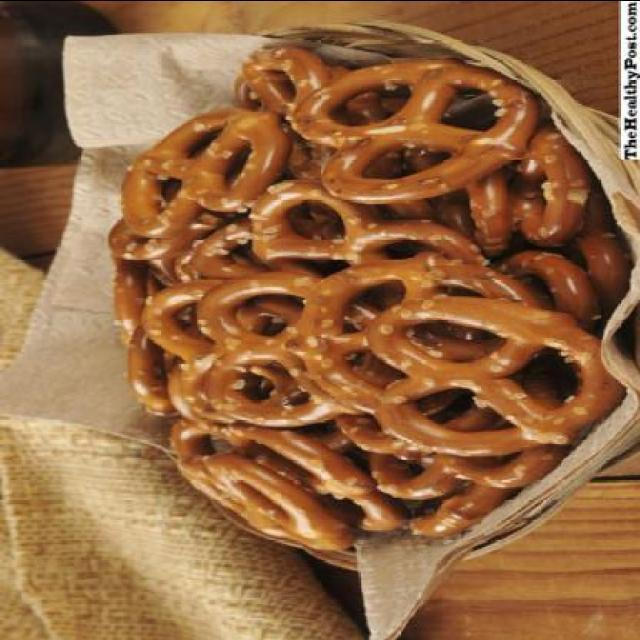Salatini packaged: (108, 45, 608, 552)
